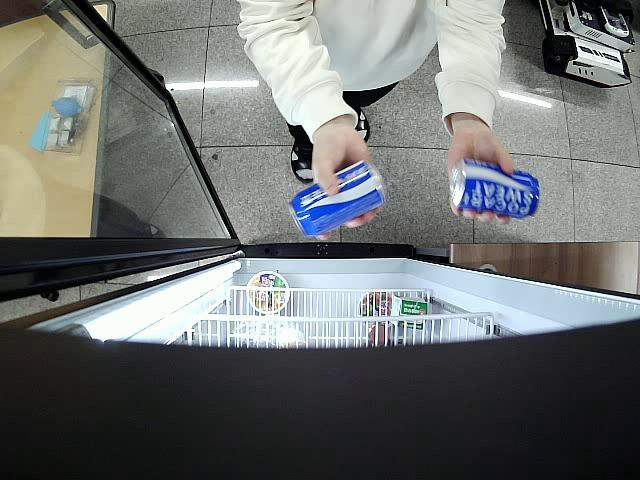00_hand: (311, 135, 384, 241), (445, 133, 517, 226)
13_pocariSweat: (286, 159, 386, 239), (450, 159, 541, 220)
